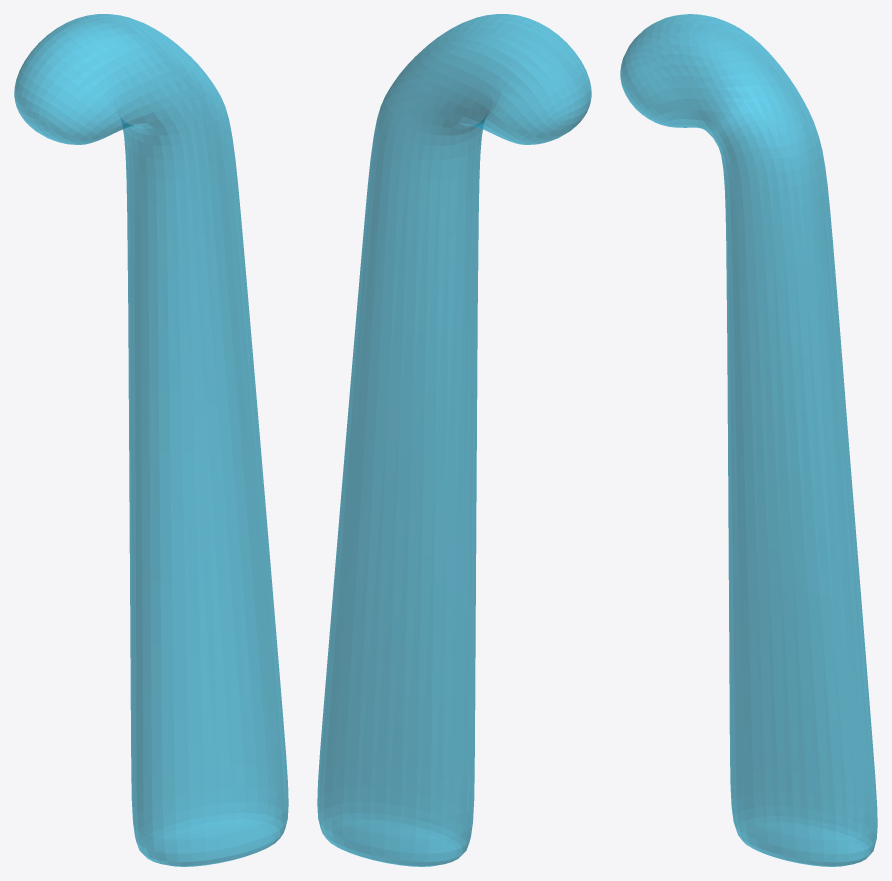
The model's file is yellPotWater.fbx.
3 renders of one model, left to right at view 1: azimuth 30°, elevation 25°; view 2: azimuth 150°, elevation 25°; view 3: azimuth 330°, elevation 25°, orthographic. The views are drawn at different scales.
Visible parts, largest first — view 1: water; view 2: water; view 3: water.
Part boxes in pixels (x1,y1,x2,y2): water: (14, 14, 288, 866); water: (317, 14, 591, 866); water: (620, 14, 877, 866).
Size of the model in its own units: 31.97 by 99.69 by 11.37.
